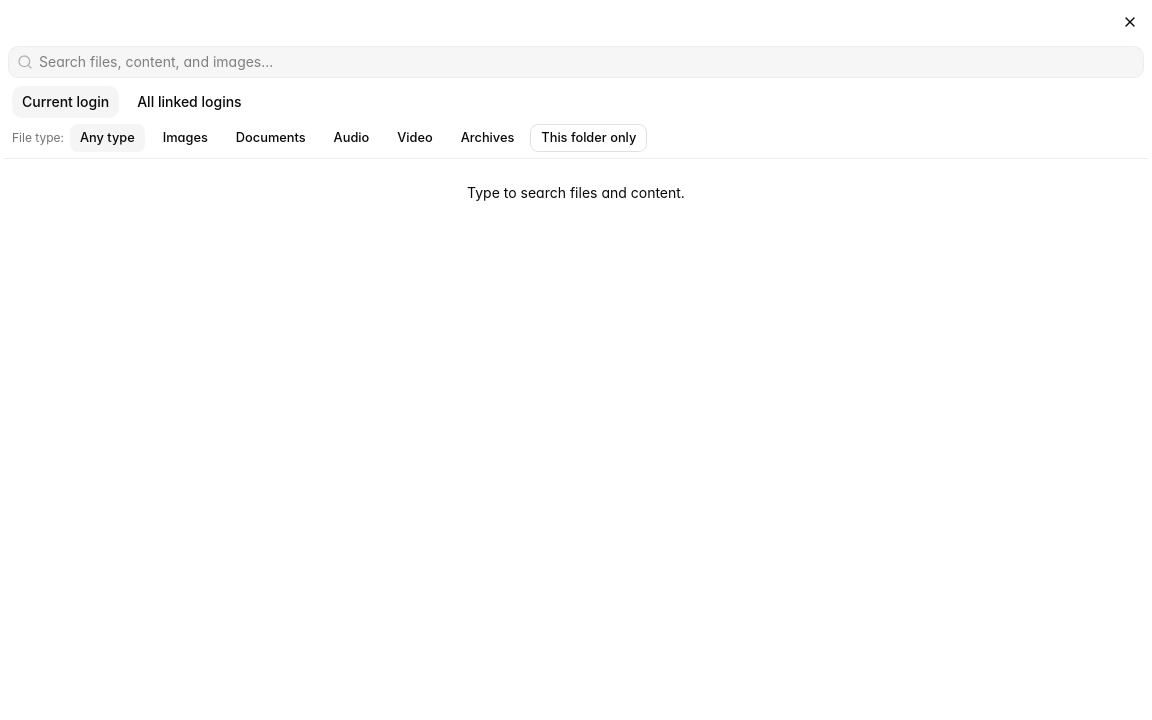
Test: runs text and visual search concurrently and displays both sections
The image size is (1152, 720).
Type "sunset" into the dropdown with placeholder "Search files, content, and images..." at (588, 62), box [33,52,1143,72]
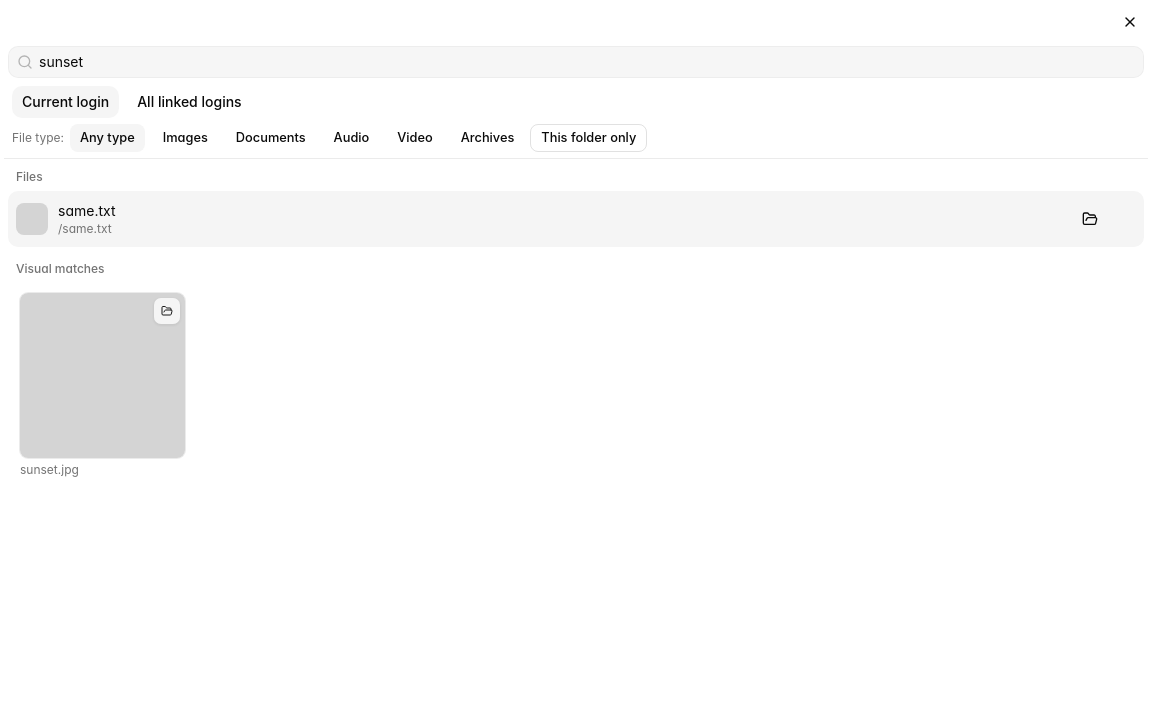
Expected: the text "same.txt" is shown, [58,202,116,219]
Expected: the text "sunset.jpg" is shown, [20,462,79,477]
Expected: the text "Visual matches" is shown, [16,261,105,276]
